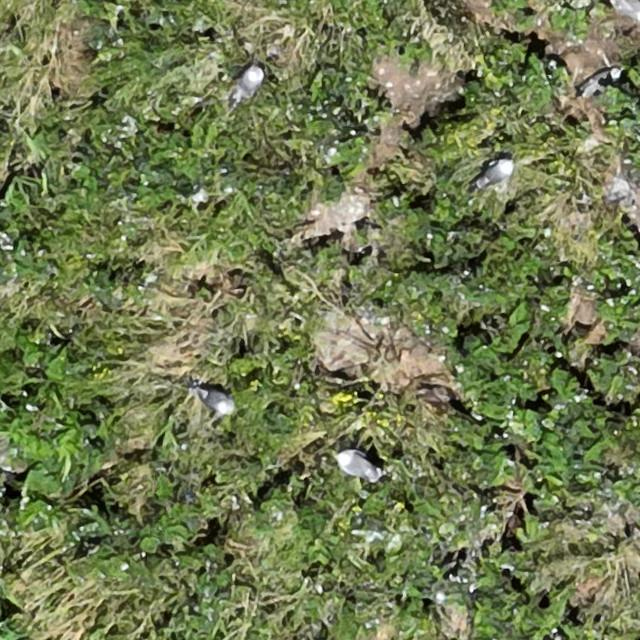umineko: (234, 67, 262, 99), (336, 454, 373, 478), (198, 389, 231, 415), (478, 161, 511, 186), (582, 72, 612, 95)
